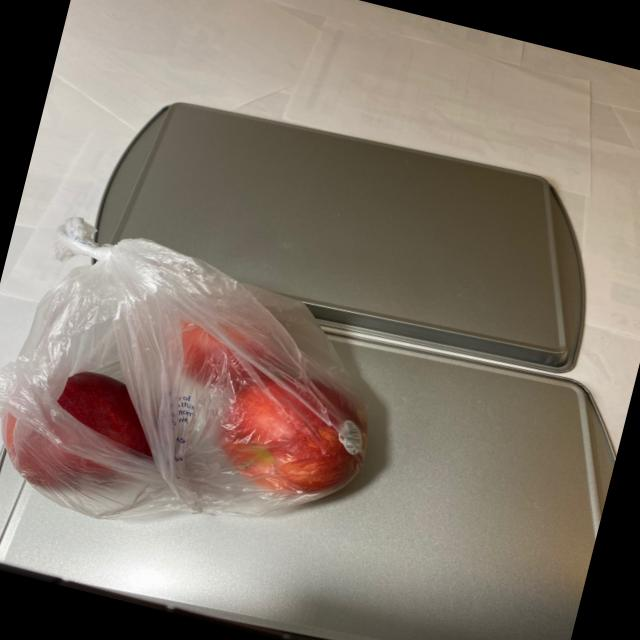apple: (0, 256, 390, 584)
